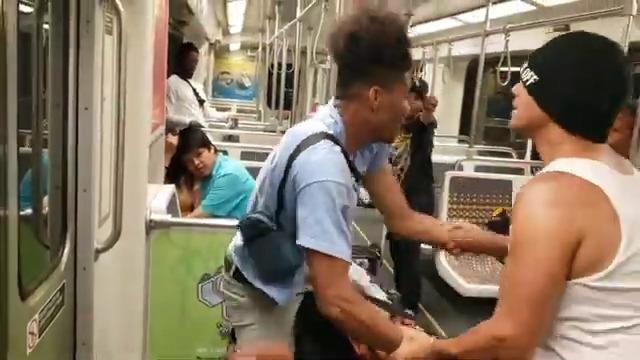non-violence: (387, 74, 443, 316), (175, 124, 254, 221), (164, 43, 240, 132), (163, 148, 199, 221)
violence: (202, 7, 640, 360)
